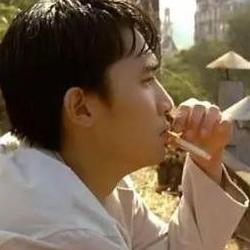cigarro: (160, 123, 212, 162)
fumador: (44, 0, 223, 248)
